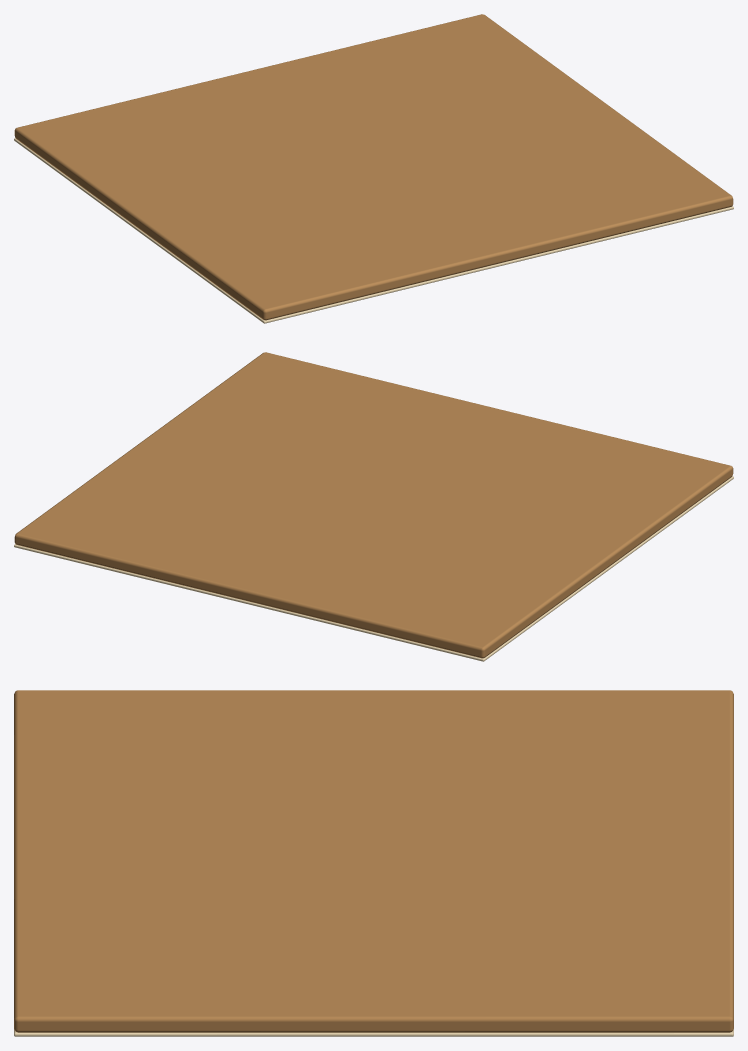
The model's file is dishwasher-case-top-light.glb.
3 views of the same model, one above another, from view 1: azimuth 30°, elevation 25°; view 2: azimuth 150°, elevation 25°; view 3: azimuth 270°, elevation 25° (orthographic). The views are drawn at different scales.
Parts seen in each view (by area): view 1: wood, cream; view 2: wood, cream; view 3: wood, cream.
Part boxes in pixels (x1,y1,x2,y2): wood: (14, 14, 733, 320); cream: (14, 138, 733, 323); wood: (14, 352, 733, 658); cream: (14, 476, 733, 661); wood: (14, 690, 733, 1032); cream: (14, 1029, 733, 1036).
Bounding box in the file's own units: 13 × 0.357 × 12.
